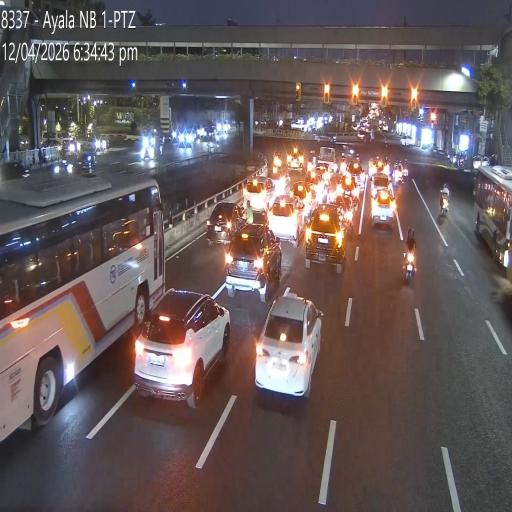Car: (132, 288, 229, 408), (251, 291, 321, 400), (227, 223, 282, 300), (302, 203, 348, 271), (267, 195, 304, 246), (207, 201, 245, 246), (331, 193, 356, 237), (242, 178, 272, 213), (370, 188, 396, 228), (289, 180, 314, 215), (63, 151, 90, 174), (339, 174, 359, 205), (370, 173, 392, 201), (346, 161, 366, 191), (286, 148, 305, 175), (80, 134, 104, 154), (40, 138, 62, 159)
Motor: (403, 240, 416, 282), (439, 184, 449, 215), (273, 144, 282, 170), (339, 152, 346, 175), (392, 158, 398, 184), (398, 157, 403, 185), (404, 158, 408, 182), (385, 154, 390, 171), (310, 149, 316, 162)
